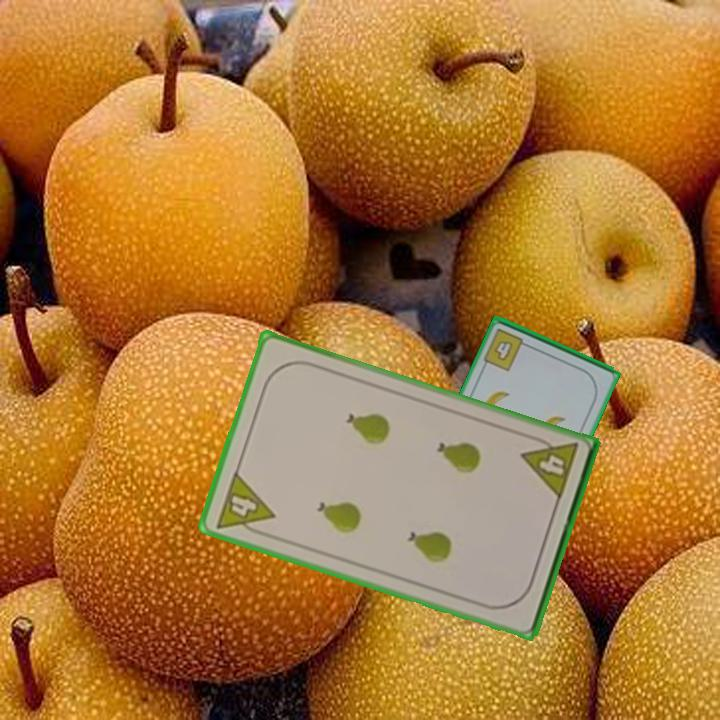4b: (480, 325, 534, 374)
4p: (212, 467, 278, 541), (518, 431, 581, 503)
